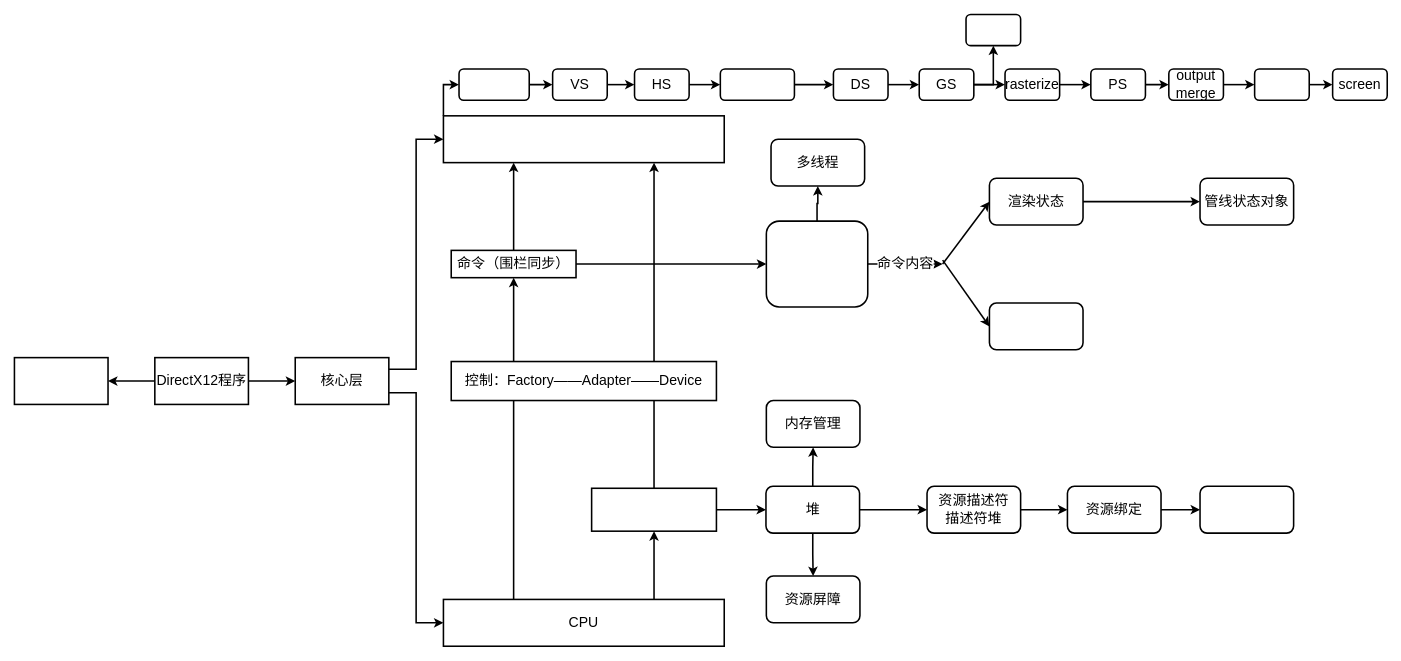
The diagram is 1401 pixels wide and 661 high, and some of its shapes have lost their labels. The box of each missing label's shape, as (x1, y1, x2, y2) in pixels:
DrawCall: (988, 302, 1083, 350)
GPU: (442, 115, 725, 163)
input assembler: (458, 68, 530, 101)
stream output: (965, 13, 1021, 46)
swap chain: (1253, 68, 1310, 101)
Tessellator: (719, 68, 795, 101)
命令队列 命令列表 命令分配器 Bundles: (765, 220, 868, 307)
根签名: (1199, 485, 1294, 534)
调试层: (13, 356, 108, 405)
资源（内存交互）: (590, 487, 717, 532)
